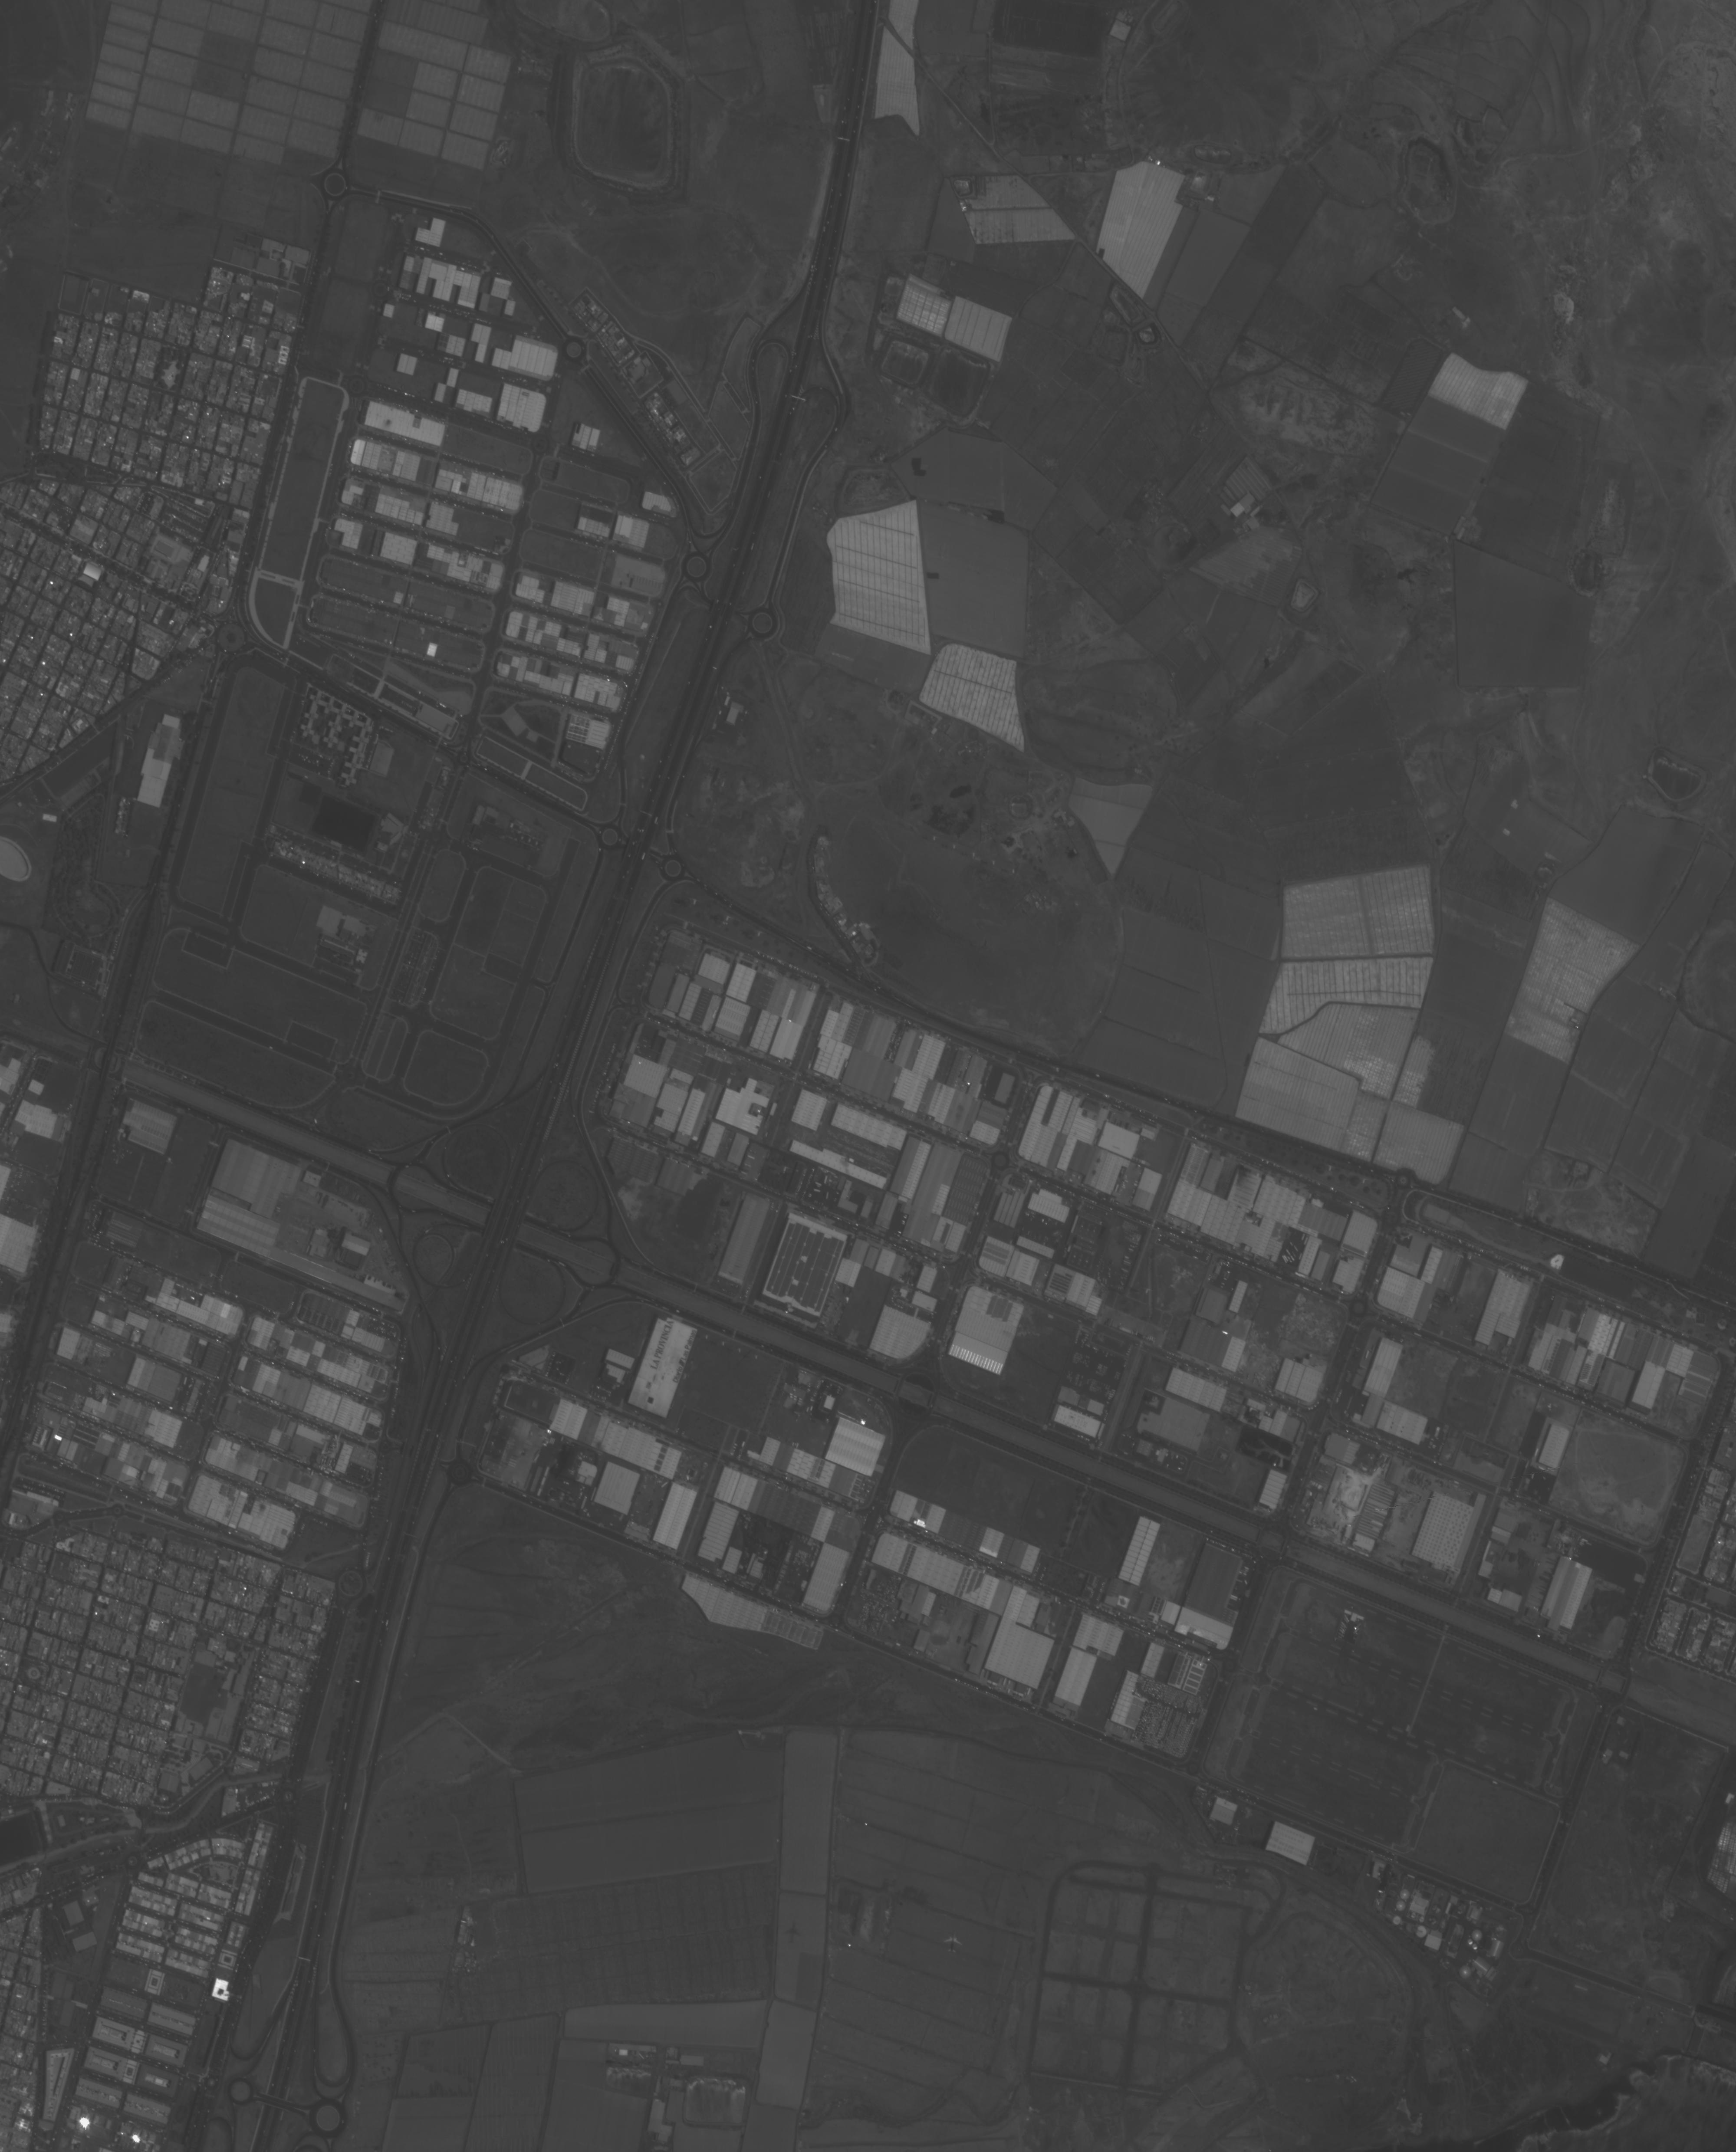plane: (945, 1933, 960, 1952)
